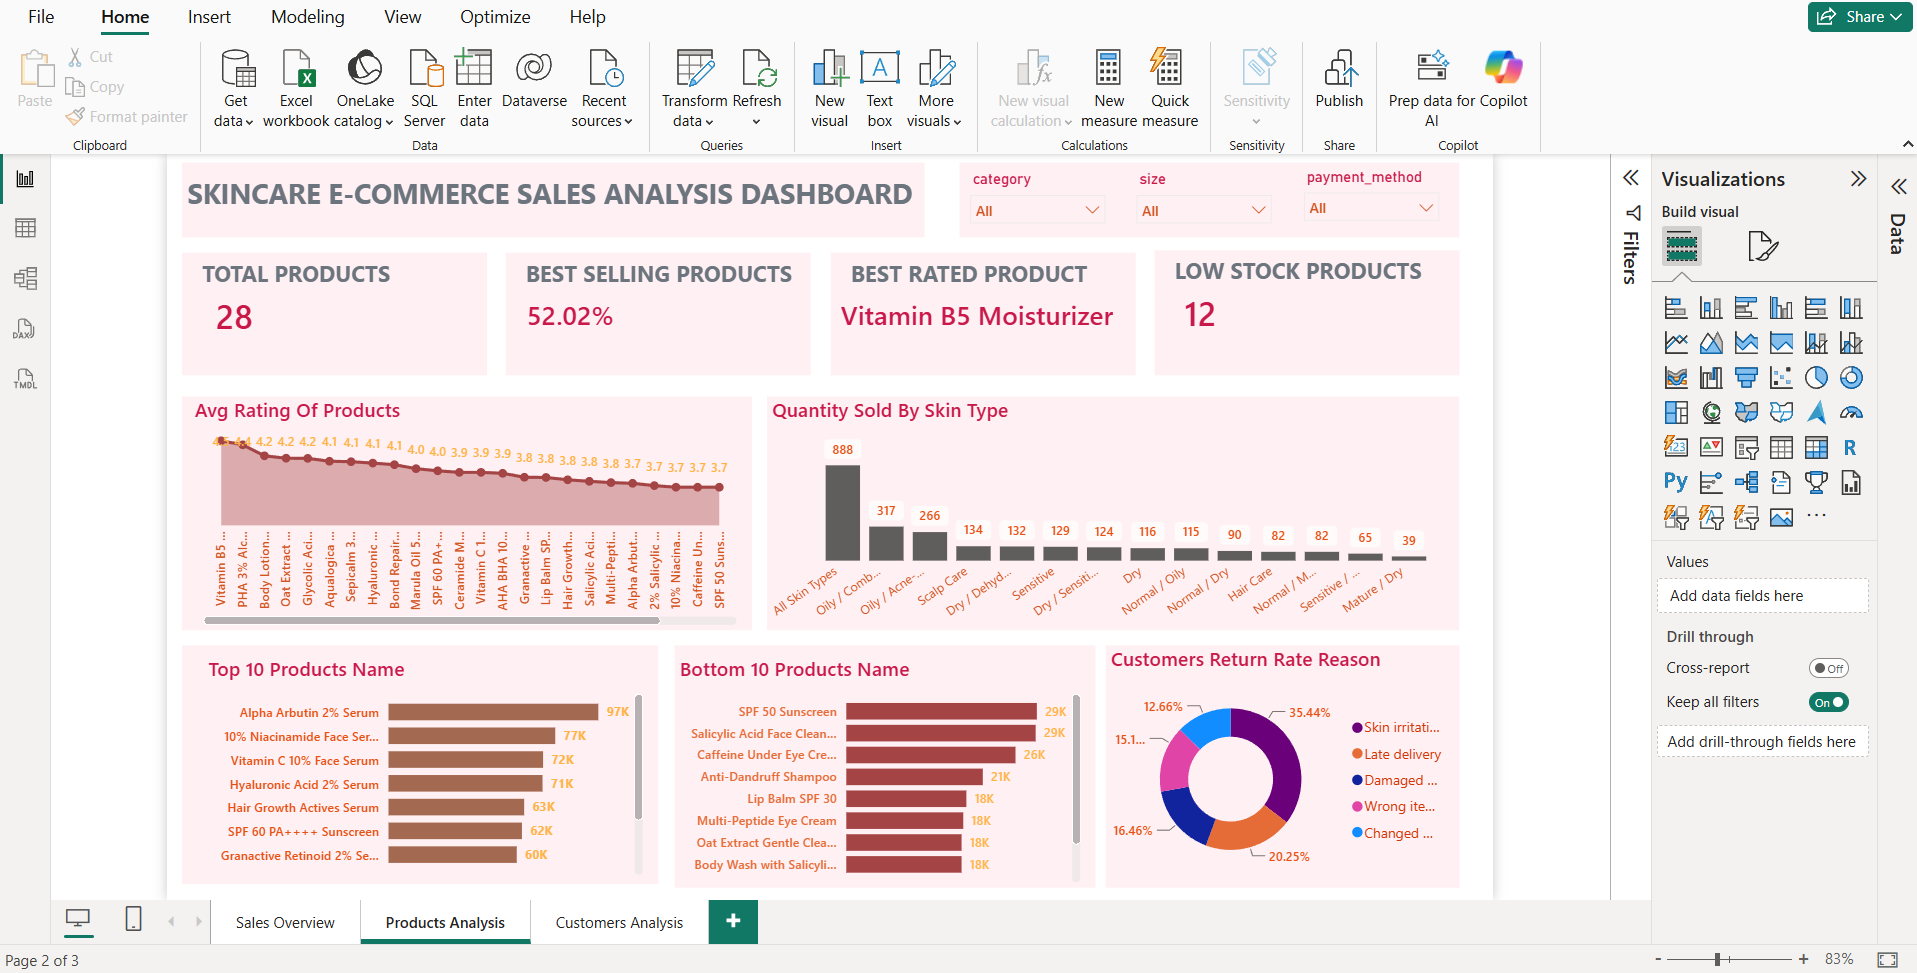

Layout of this report page (visuals, bound fields, positions):
{"tool":"powerbi","page":{"name":"Products Analysis","canvas":[1280,720],"ordinal":1},"visuals":[{"type":"shape","box":[14.5,95.3,294.4,118.2],"z":0},{"type":"cardVisual","fields":{"Data":["customers.total products"]},"box":[18.1,120.6,260.6,68.8],"z":1000},{"type":"textbox","box":[29,95.3,249.7,47.1],"z":2000},{"type":"shape","box":[14.5,8.4,716.6,72.4],"z":3000},{"type":"textbox","box":[14.5,14.5,731.1,60.3],"z":4000},{"type":"shape","box":[326.9,95.3,294.4,118.2],"z":6000},{"type":"cardVisual","fields":{"Data":["customers.product rank"]},"box":[318.5,120.6,260.6,67.6],"z":7000},{"type":"textbox","box":[341.4,95.3,276.3,47.1],"z":8000},{"type":"shape","box":[640.6,95.3,294.4,118.2],"z":10000},{"type":"cardVisual","fields":{"Data":["customers.best rated product"]},"box":[621.3,119.4,331.8,68.8],"z":11000},{"type":"textbox","box":[655.7,95.7,249.7,47.1],"z":12000},{"type":"shape","box":[953.1,92.9,294.4,120.6],"z":14000},{"type":"cardVisual","fields":{"Data":["customers.low stock count"]},"box":[953.1,118.2,260.6,68.8],"z":15000},{"type":"textbox","box":[967.6,92.9,279.9,47.1],"z":16000},{"type":"shape","box":[579.1,234,668.4,225.6],"z":18000},{"type":"lineStackedColumnComboChart","title":"Quantity Sold By Skin Type","fields":{"Category":["products.skin_type"],"Y":["_new meaures.total quantity"]},"box":[579.1,234,658.7,225.6],"z":19000},{"type":"shape","box":[906,474.1,341.4,234],"z":20000},{"type":"donutChart","title":"Customers Return Rate Reason","fields":{"Y":["_new meaures.return rate"],"Category":["returns.return_reason"]},"box":[906,474.1,341.4,234],"z":21000},{"type":"shape","box":[14.5,474.1,459.7,230.4],"z":22000},{"type":"clusteredBarChart","title":"Top 10 Products Name","fields":{"Category":["products.product_name"],"Y":["_new meaures.product revenue"]},"box":[35,483.8,429.5,217.2],"z":23000},{"type":"shape","box":[489.8,474.1,406.6,234],"z":24000},{"type":"clusteredBarChart","title":"Bottom 10  Products Name","fields":{"Category":["products.product_name"],"Y":["_new meaures.product revenue"]},"box":[489.8,483.8,396.9,224.4],"z":25000},{"type":"shape","box":[14.5,234,550.1,225.6],"z":28000},{"type":"areaChart","title":"Avg Rating Of Products","fields":{"Category":["products.product_name"],"Y":["_new meaures.avg rating"]},"box":[21.7,234,533.2,225.6],"z":29000},{"type":"shape","box":[764.9,8.4,482.6,72.4],"z":30000},{"type":"slicer","fields":{"Values":["products.category"]},"box":[764.9,10.9,150.8,67.6],"z":31000},{"type":"slicer","fields":{"Values":["products.size"]},"box":[925.3,10.9,150.8,67.6],"z":32000},{"type":"slicer","fields":{"Values":["orders.payment_method"]},"box":[1087,8.4,150.8,67.6],"z":33000}]}

Visuals, with their boxes on the page's 1280x720 design canvas (x1, y1, x2, y2). These are canvas units, not pixel positions in the 1917x973 screenshot, which may show the page scaled, cropped or inside an application window:
shape: {"left": 14, "top": 95, "right": 309, "bottom": 214}
cardVisual - customers.total products: {"left": 18, "top": 121, "right": 279, "bottom": 189}
textbox: {"left": 29, "top": 95, "right": 279, "bottom": 142}
shape: {"left": 14, "top": 8, "right": 731, "bottom": 81}
textbox: {"left": 14, "top": 14, "right": 746, "bottom": 75}
shape: {"left": 327, "top": 95, "right": 621, "bottom": 214}
cardVisual - customers.product rank: {"left": 318, "top": 121, "right": 579, "bottom": 188}
textbox: {"left": 341, "top": 95, "right": 618, "bottom": 142}
shape: {"left": 641, "top": 95, "right": 935, "bottom": 214}
cardVisual - customers.best rated product: {"left": 621, "top": 119, "right": 953, "bottom": 188}
textbox: {"left": 656, "top": 96, "right": 905, "bottom": 143}
shape: {"left": 953, "top": 93, "right": 1248, "bottom": 214}
cardVisual - customers.low stock count: {"left": 953, "top": 118, "right": 1214, "bottom": 187}
textbox: {"left": 968, "top": 93, "right": 1248, "bottom": 140}
shape: {"left": 579, "top": 234, "right": 1248, "bottom": 460}
"Quantity Sold By Skin Type" lineStackedColumnComboChart: {"left": 579, "top": 234, "right": 1238, "bottom": 460}
shape: {"left": 906, "top": 474, "right": 1247, "bottom": 708}
"Customers Return Rate Reason" donutChart: {"left": 906, "top": 474, "right": 1247, "bottom": 708}
shape: {"left": 14, "top": 474, "right": 474, "bottom": 704}
"Top 10 Products Name" clusteredBarChart: {"left": 35, "top": 484, "right": 464, "bottom": 701}
shape: {"left": 490, "top": 474, "right": 896, "bottom": 708}
"Bottom 10  Products Name" clusteredBarChart: {"left": 490, "top": 484, "right": 887, "bottom": 708}
shape: {"left": 14, "top": 234, "right": 565, "bottom": 460}
"Avg Rating Of Products" areaChart: {"left": 22, "top": 234, "right": 555, "bottom": 460}
shape: {"left": 765, "top": 8, "right": 1248, "bottom": 81}
slicer - products.category: {"left": 765, "top": 11, "right": 916, "bottom": 78}
slicer - products.size: {"left": 925, "top": 11, "right": 1076, "bottom": 78}
slicer - orders.payment_method: {"left": 1087, "top": 8, "right": 1238, "bottom": 76}
